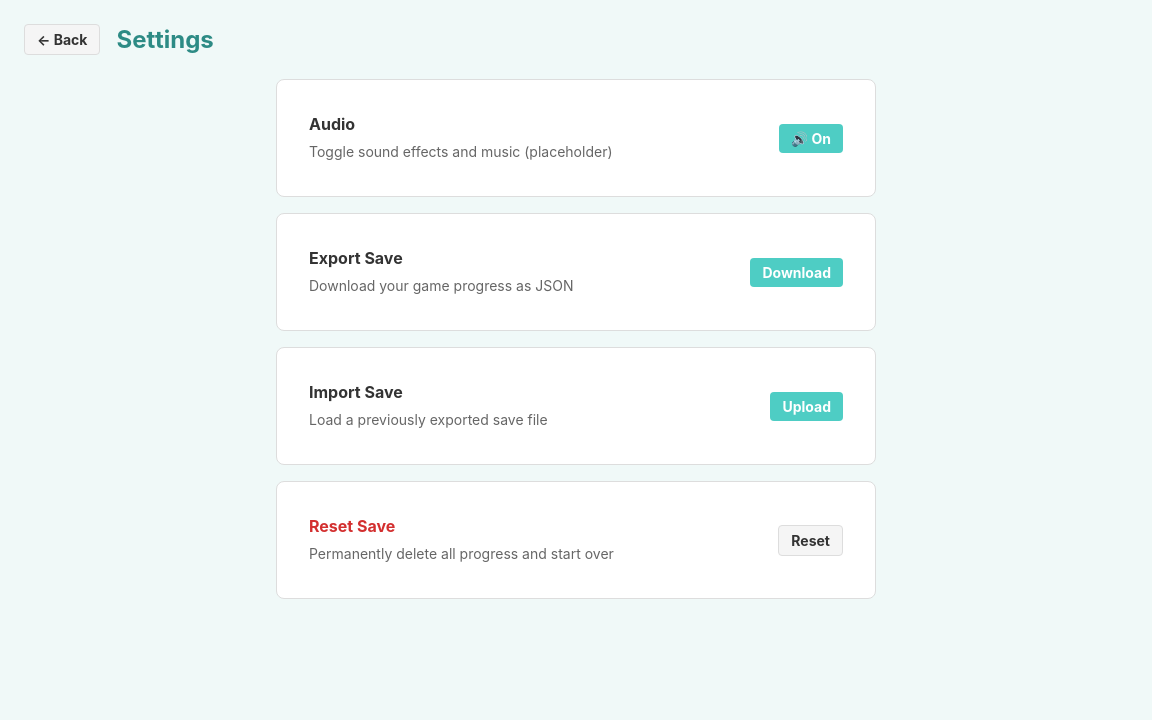
Test case: Settings › handles export error gracefully
This screenshot has width=1152, height=720.
Click the button "Download" at (797, 272), box [750, 258, 843, 286]
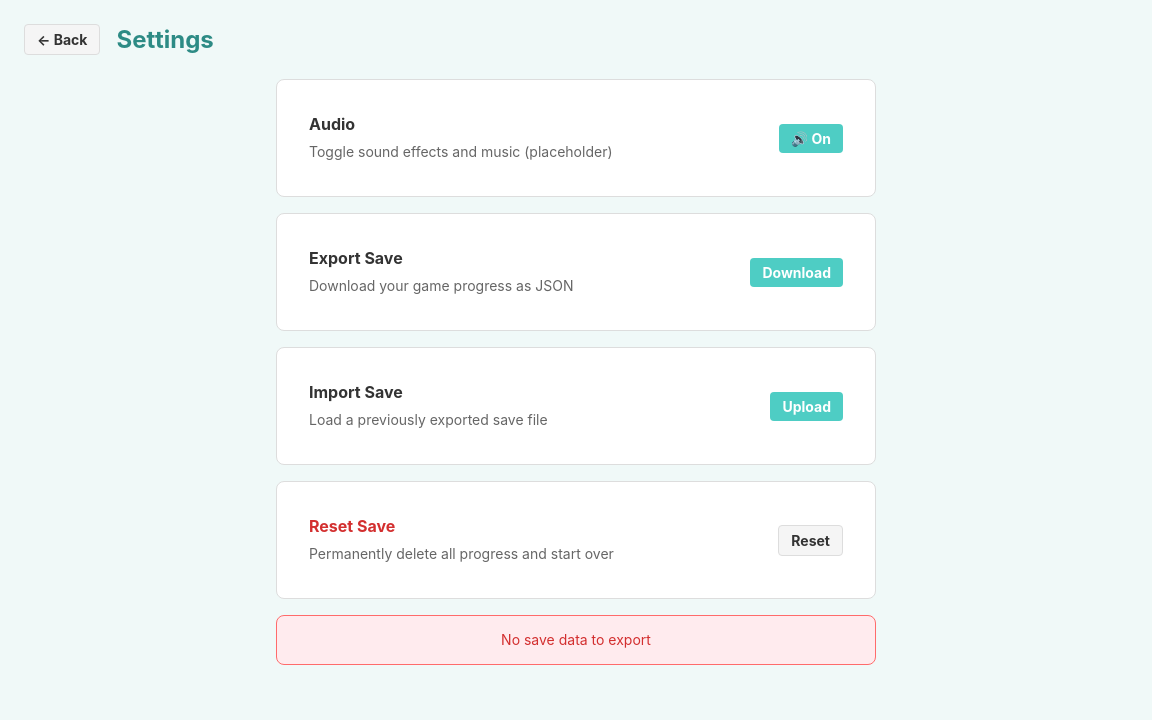
Result: the text "No save data to export" is shown at [276, 615, 876, 665]
